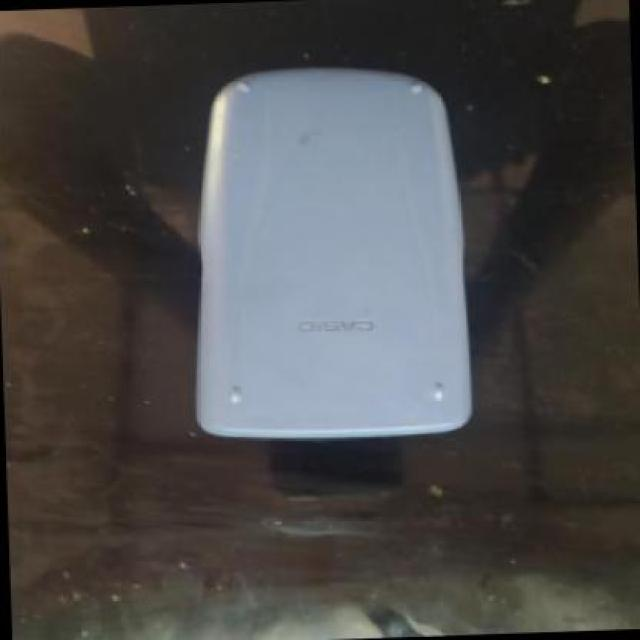Calculator: (176, 52, 478, 446)
